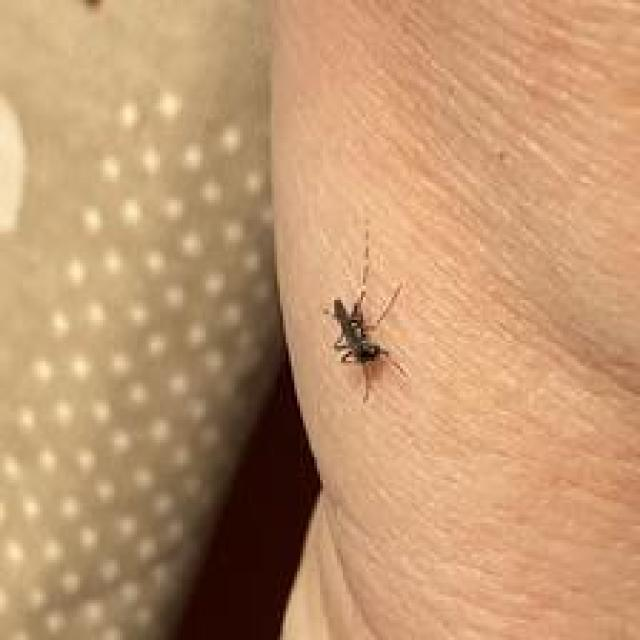Aedes albopictus: (321, 226, 410, 403)
